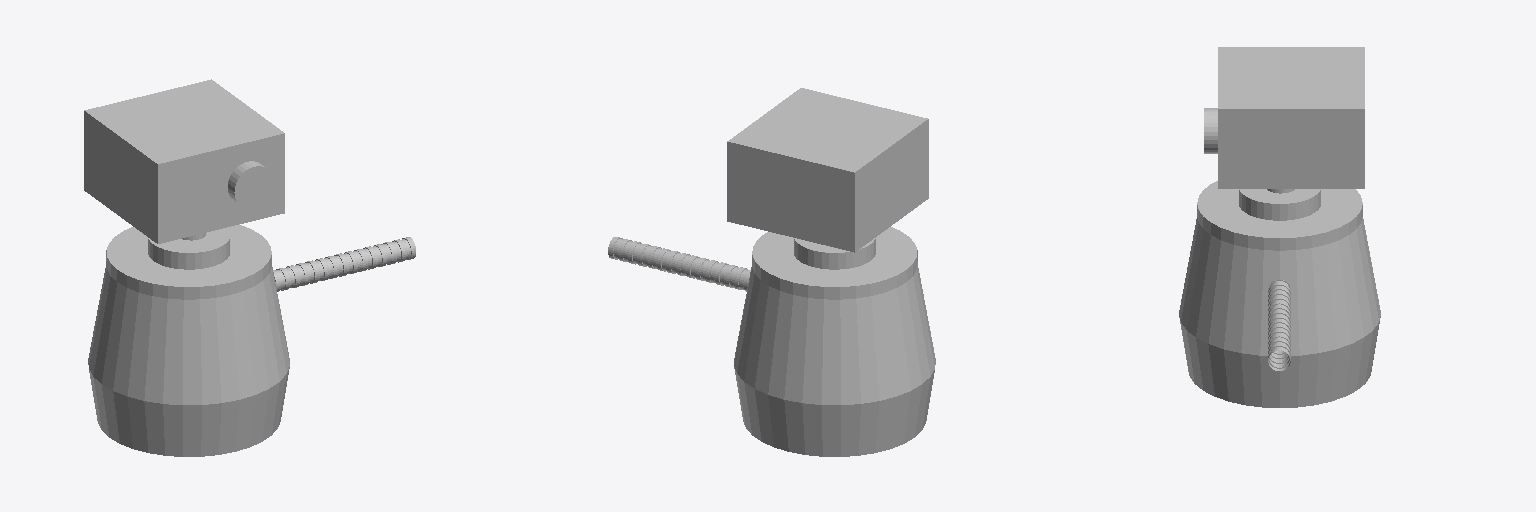
The model's file is robot_inprogress.obj.
The picture shows the model from 3 angles: view 1: azimuth 30°, elevation 25°; view 2: azimuth 150°, elevation 25°; view 3: azimuth 270°, elevation 25°; orthographic projection.
Parts seen in each view (by area): view 1: Cylinder; view 2: Cylinder; view 3: Cylinder.
Part boxes in pixels (x1,y1,x2,y2): Cylinder: (84,79,415,456); Cylinder: (608,88,935,456); Cylinder: (1179,47,1380,407).
Size of the model in its own units: 3.88 by 3.5 by 2.2.